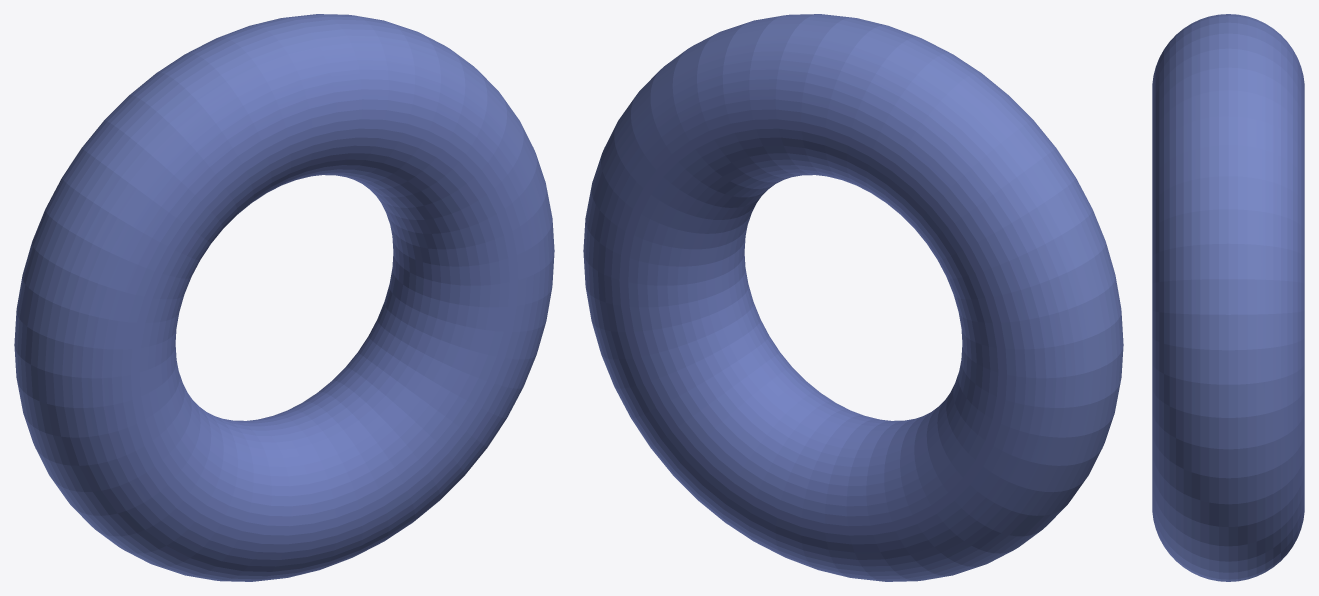
3 views of the same model, side by side, from view 1: azimuth 30°, elevation 25°; view 2: azimuth 150°, elevation 25°; view 3: azimuth 270°, elevation 25° (orthographic). The views are drawn at different scales.
Parts seen in each view (by area): view 1: world; view 2: world; view 3: world.
Part boxes in pixels (bbox=[...]): world: bbox=[14, 14, 554, 581]; world: bbox=[583, 14, 1123, 581]; world: bbox=[1152, 14, 1304, 581].
Bounding box in the file's own units: 17.33 × 17.3 × 4.66.
